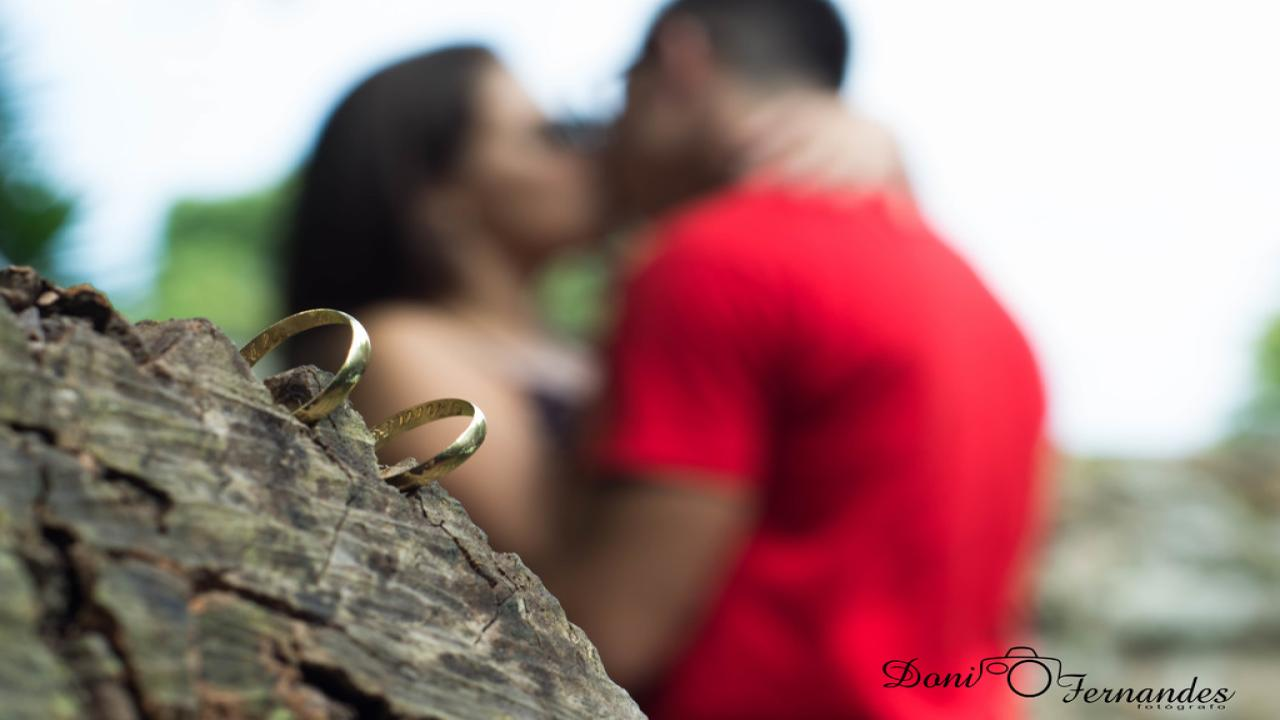ring: (235, 306, 371, 420), (360, 395, 490, 489)
